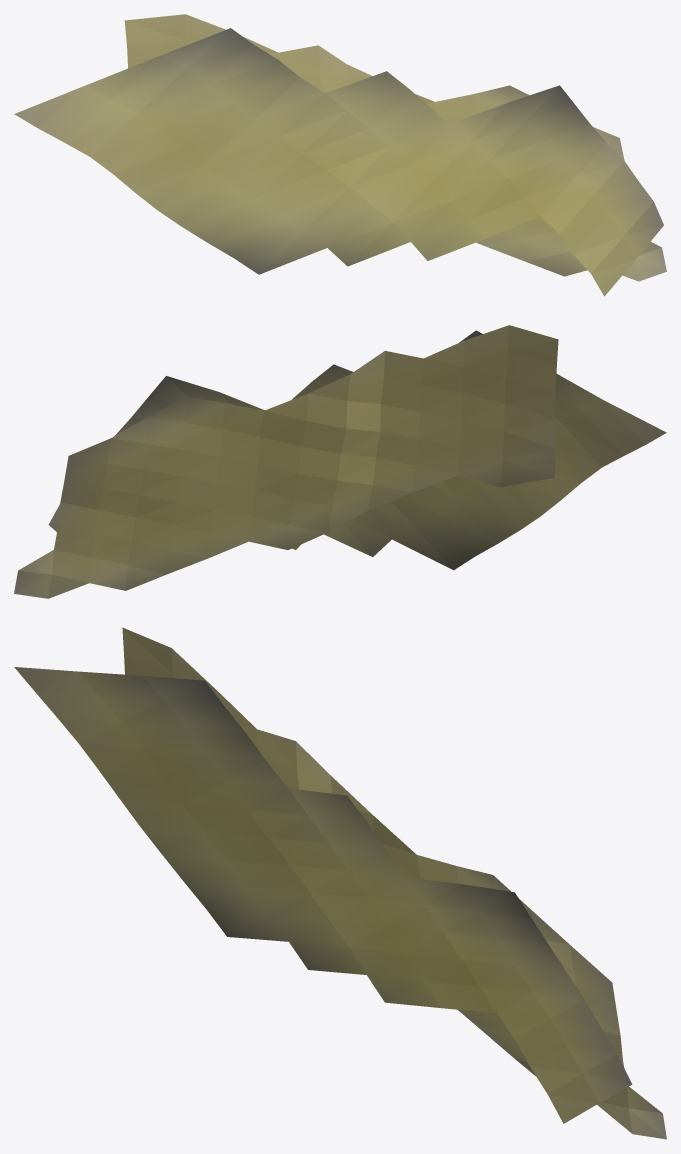
File: entity-floor-marking-17.glb
3 views of the same model, one above another, from view 1: azimuth 30°, elevation 25°; view 2: azimuth 150°, elevation 25°; view 3: azimuth 330°, elevation 25° (orthographic).
Visible parts, largest first — view 1: geometry_0; view 2: geometry_0; view 3: geometry_0.
Part boxes in pixels (left/top/right/bottom): geometry_0: left=14, top=14, right=666, bottom=296; geometry_0: left=14, top=325, right=666, bottom=598; geometry_0: left=14, top=627, right=666, bottom=1139.
Bounding box in the file's own units: 0.2366 × 0.1334 × 0.0155.
